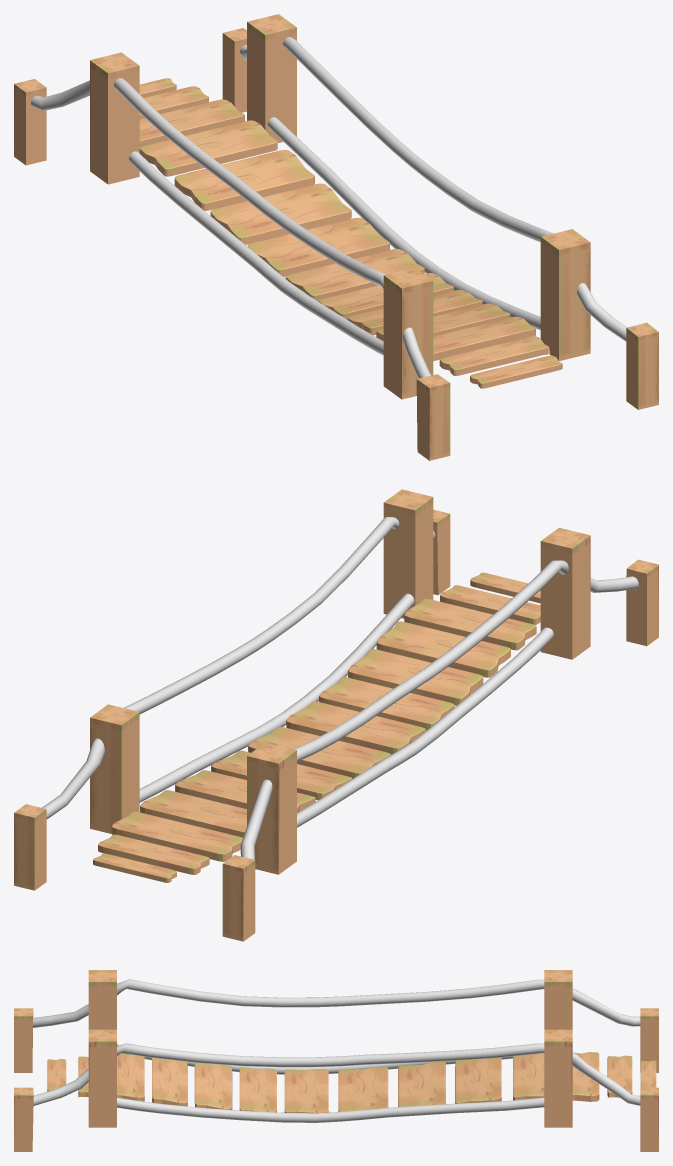
File: jembatan.fbx
3 renders of one model, top to bottom at view 1: azimuth 30°, elevation 25°; view 2: azimuth 150°, elevation 25°; view 3: azimuth 270°, elevation 25°, orthographic. The views are drawn at different scales.
Visible parts, largest first — view 1: jembatan; view 2: jembatan; view 3: jembatan.
Boxes of the visible parts, x1,y1,x2,y2 form: jembatan: (14, 14, 658, 460); jembatan: (14, 489, 658, 941); jembatan: (14, 970, 658, 1151).
Bounding box in the file's own units: 406 × 223 × 1268.
Materials: 3 (2 with a texture image).
